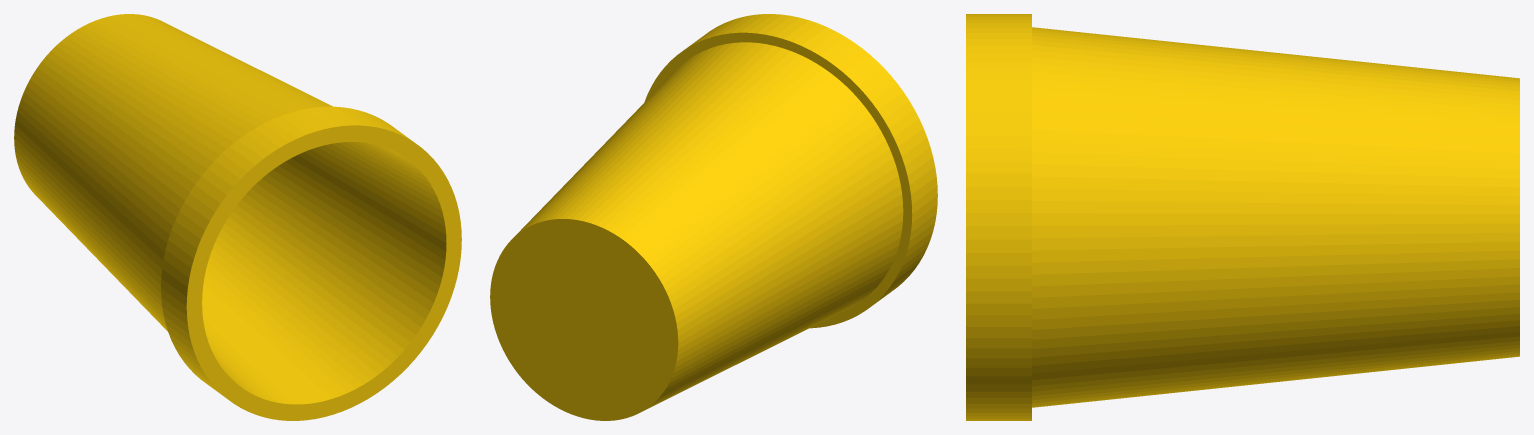
File: cup_yellow.obj
3 renders of one model, left to right at view 1: azimuth 30°, elevation 25°; view 2: azimuth 150°, elevation 25°; view 3: azimuth 270°, elevation 25°, orthographic. The views are drawn at different scales.
Parts seen in each view (by area): view 1: cup_yellow; view 2: cup_yellow; view 3: cup_yellow.
Part boxes in pixels (<box>): cup_yellow: <box>14,14,461,420</box>; cup_yellow: <box>490,14,937,420</box>; cup_yellow: <box>966,14,1519,420</box>.
Size of the model in its own units: 0.068 by 0.068 by 0.0925.
